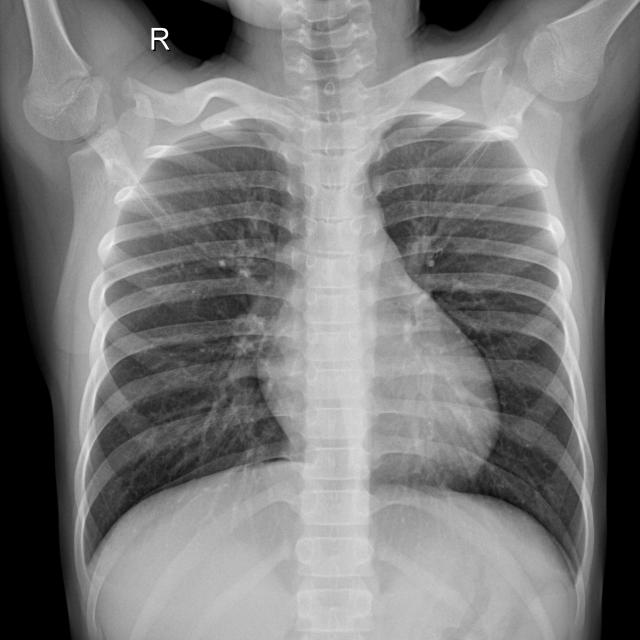no-pneumonia: (80, 117, 307, 563), (369, 114, 587, 567)
